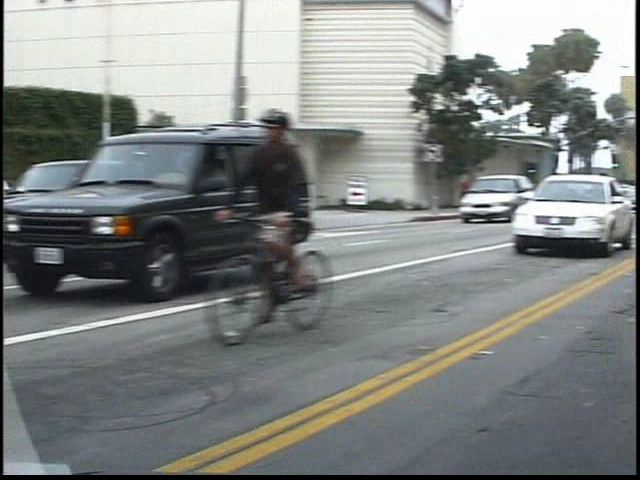person: (253, 103, 351, 327), (6, 168, 35, 200), (474, 171, 494, 214)
